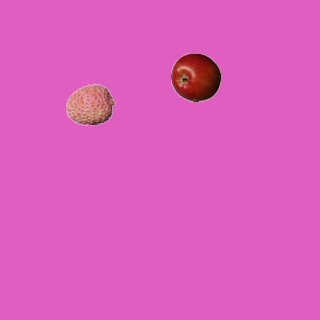Apple Braeburn: (170, 52, 220, 102)
Lychee: (65, 79, 115, 129)
